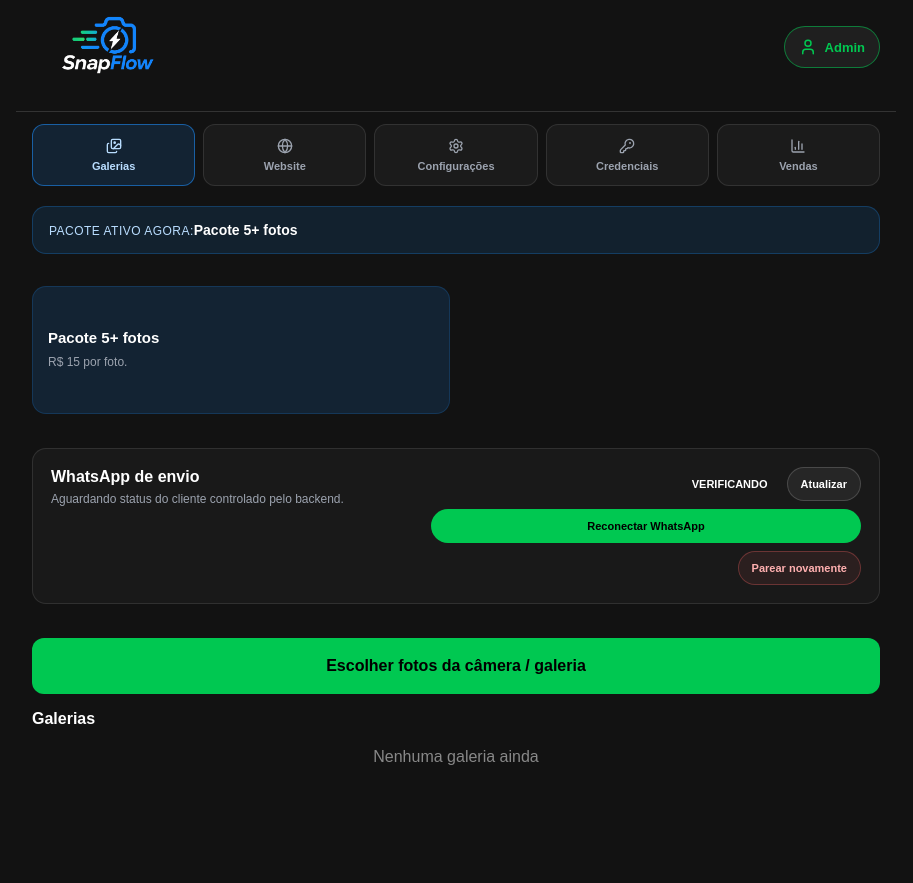
Test case: DashboardScreen admin unlock › shows website in the sales slot and keeps sales as the final admin category
The width and height of the screenshot is (913, 883).
Expected: the button "Escolher fotos da câmera / galeria" is enabled, [32,638,880,694]
Step 1. Click the button "Configurações" → x=456, y=155, box [374,124,538,186]
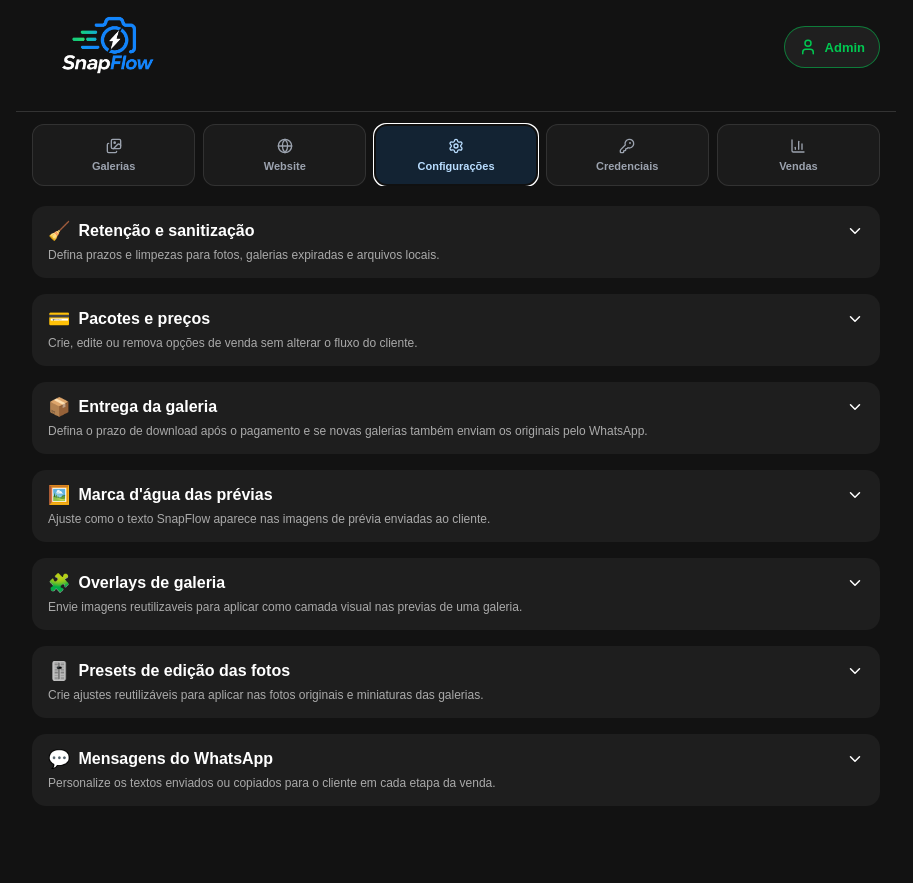
Expected: the button "Editar pacotes" is not shown
Step 2. Click the button "💳 Pacotes e preços" → x=144, y=318, box [48,310,864,328]
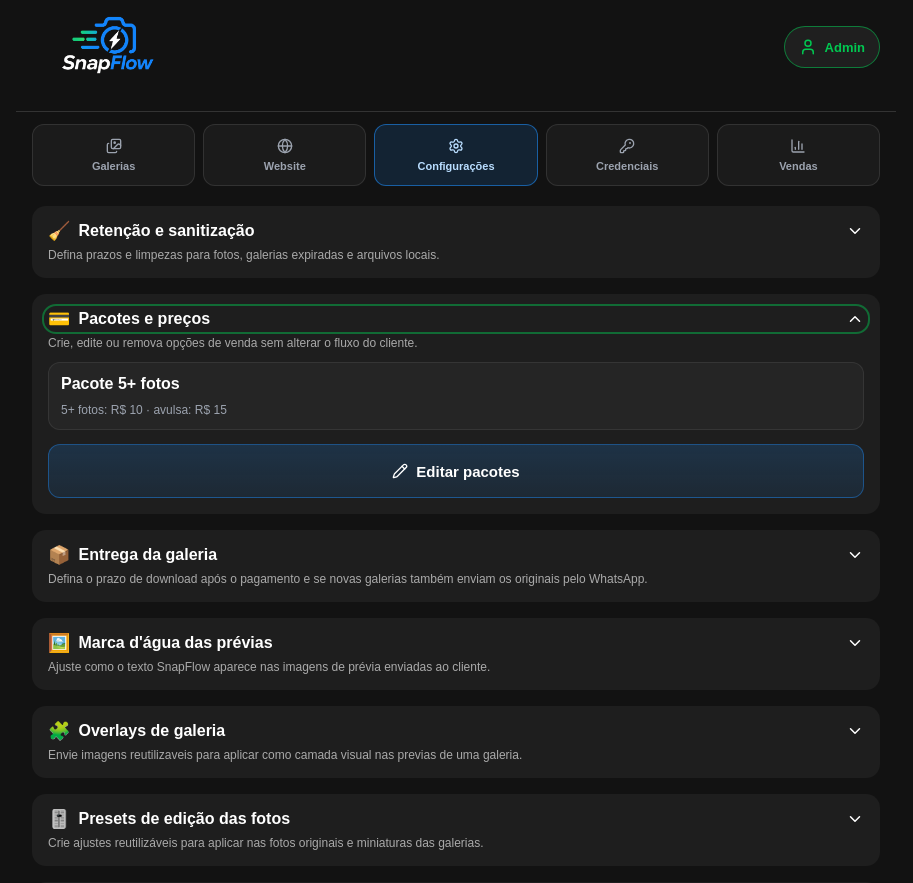
Now the button "💳 Pacotes e preços" is expanded, box [48,310,864,328]
Now the button "Editar pacotes" is shown, box [48,444,864,498]
